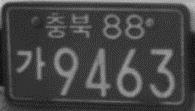3: (148, 47, 176, 98)
4: (84, 47, 111, 96)
6: (115, 47, 143, 98)
8: (101, 13, 122, 39), (124, 13, 144, 40)
9: (53, 47, 79, 96)
가: (15, 46, 46, 80)
충북_O: (45, 10, 93, 38)
